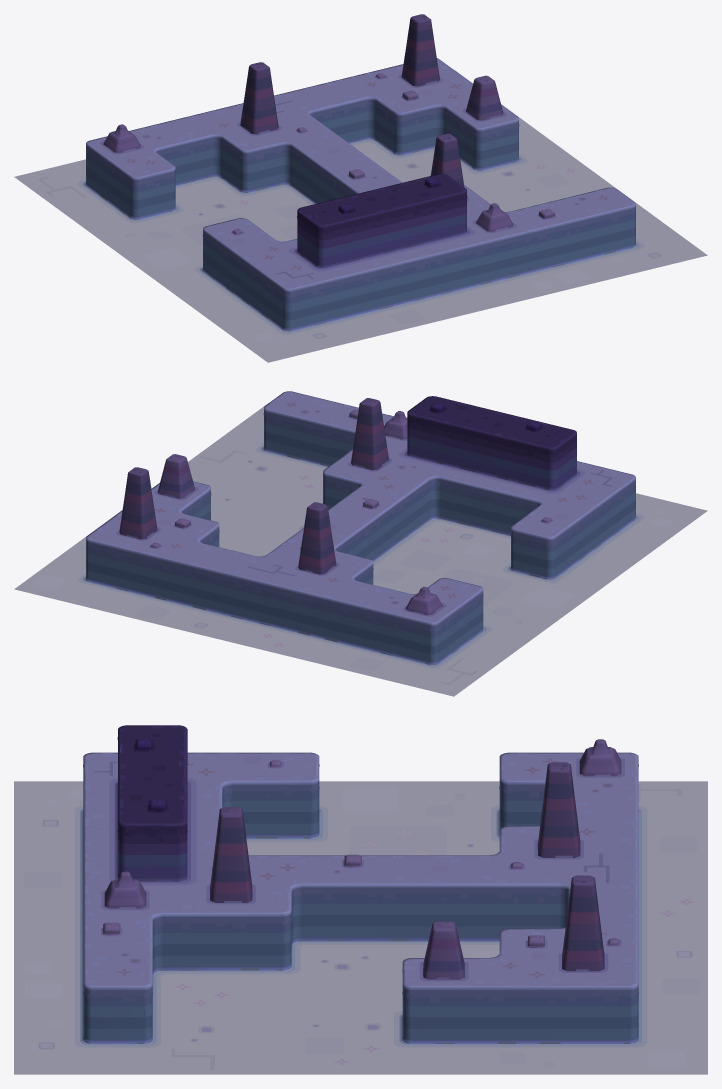
Rendered from C_cave1_05.fbx.
The picture shows the model from 3 angles, top to bottom: view 1: azimuth 30°, elevation 25°; view 2: azimuth 150°, elevation 25°; view 3: azimuth 270°, elevation 25°; orthographic projection. The views are drawn at different scales.
Parts seen in each view (by area): view 1: C_cave1_05.001; view 2: C_cave1_05.001; view 3: C_cave1_05.001.
Part boxes in pixels (x1=…): C_cave1_05.001: x1=14, y1=14, x2=707, y2=362; C_cave1_05.001: x1=14, y1=391, x2=707, y2=696; C_cave1_05.001: x1=14, y1=725, x2=707, y2=1074.
Size of the model in its own units: 50 by 11.34 by 50.
